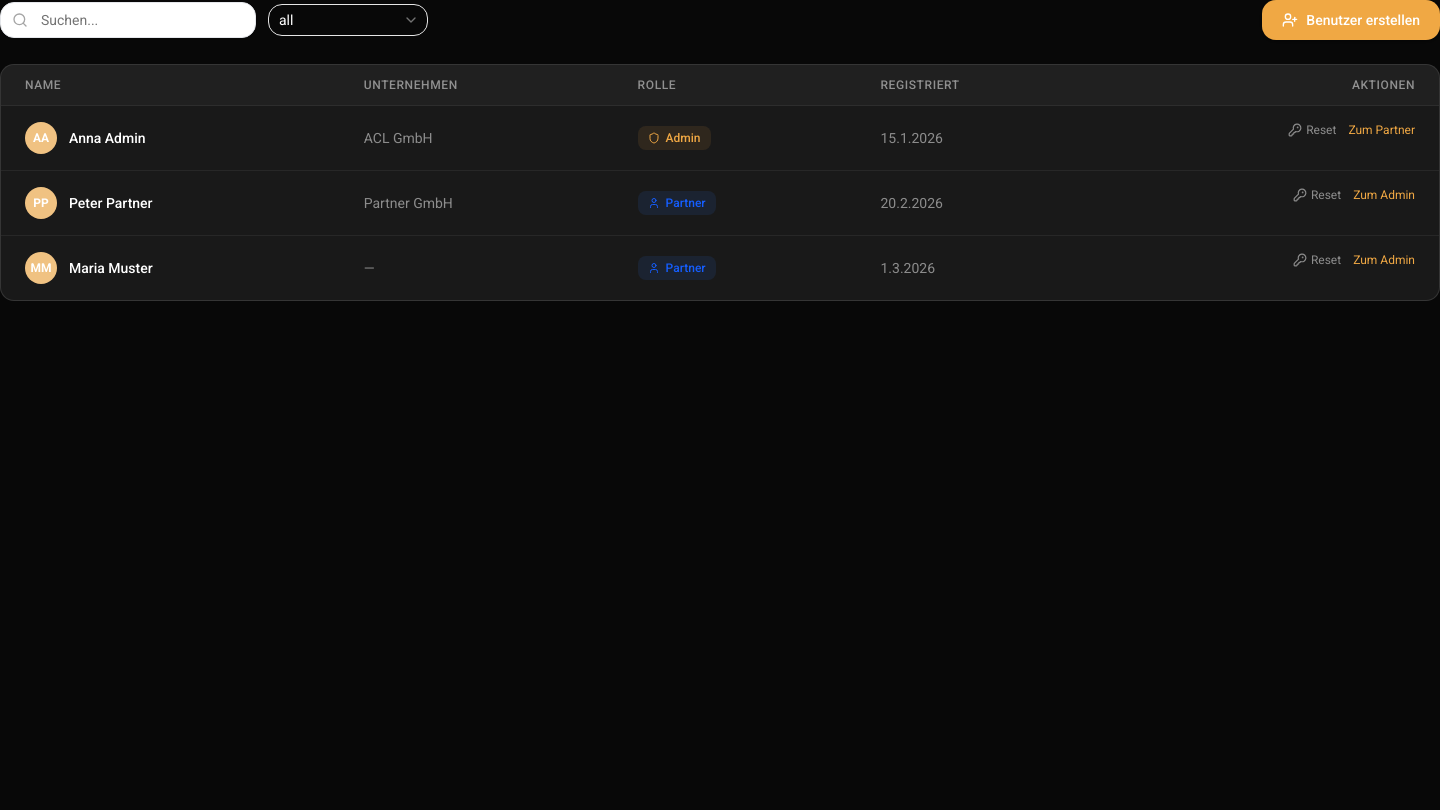
Test: AdminUsersList › Dialog: Benutzer hinzufügen › zeigt Passwortfeld im Erstellen-Tab
Click the button "Benutzer erstellen". click: (1351, 20)
box: [1262,0,1439,40]
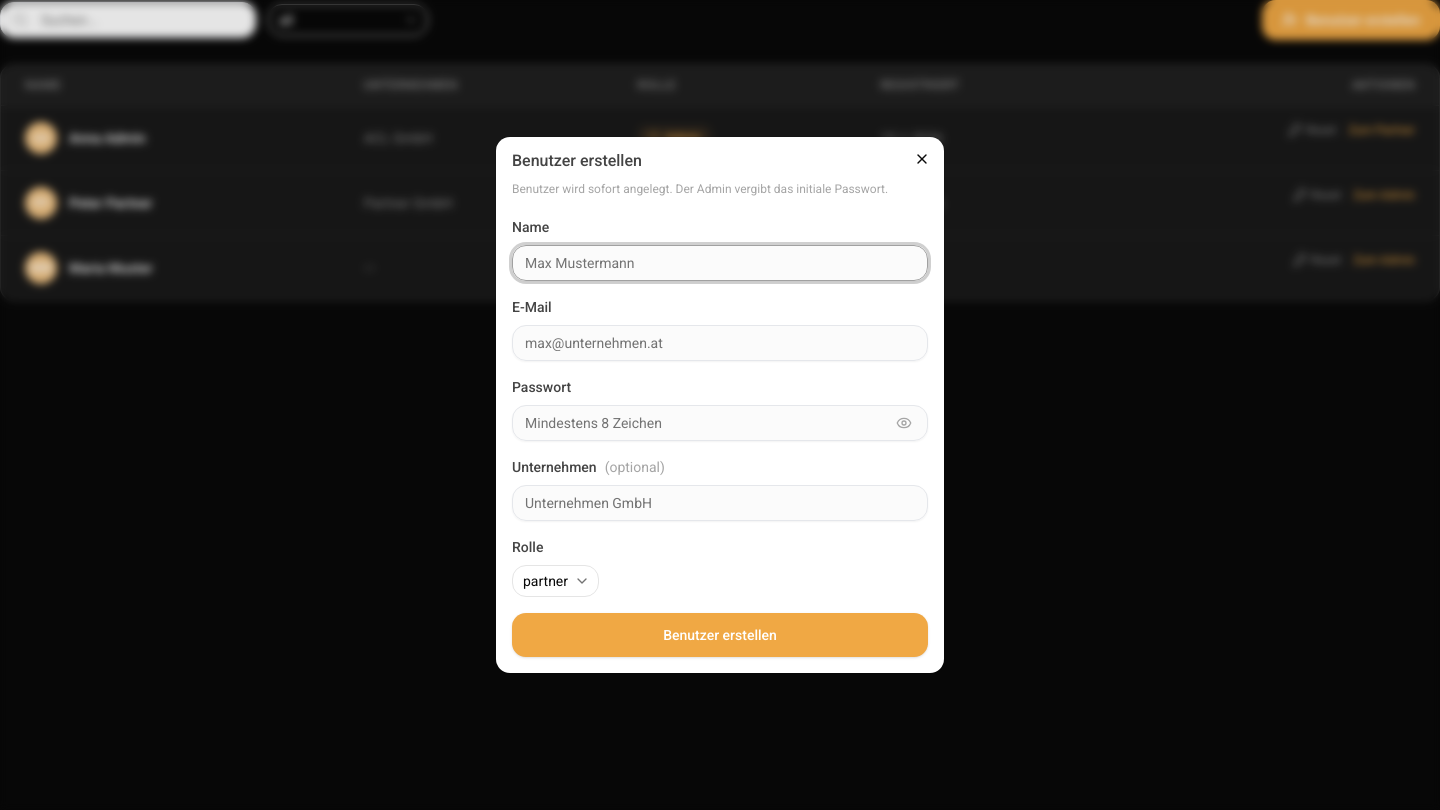
Result: the password field with placeholder "Mindestens 8 Zeichen" is shown at [512,405,928,441]
